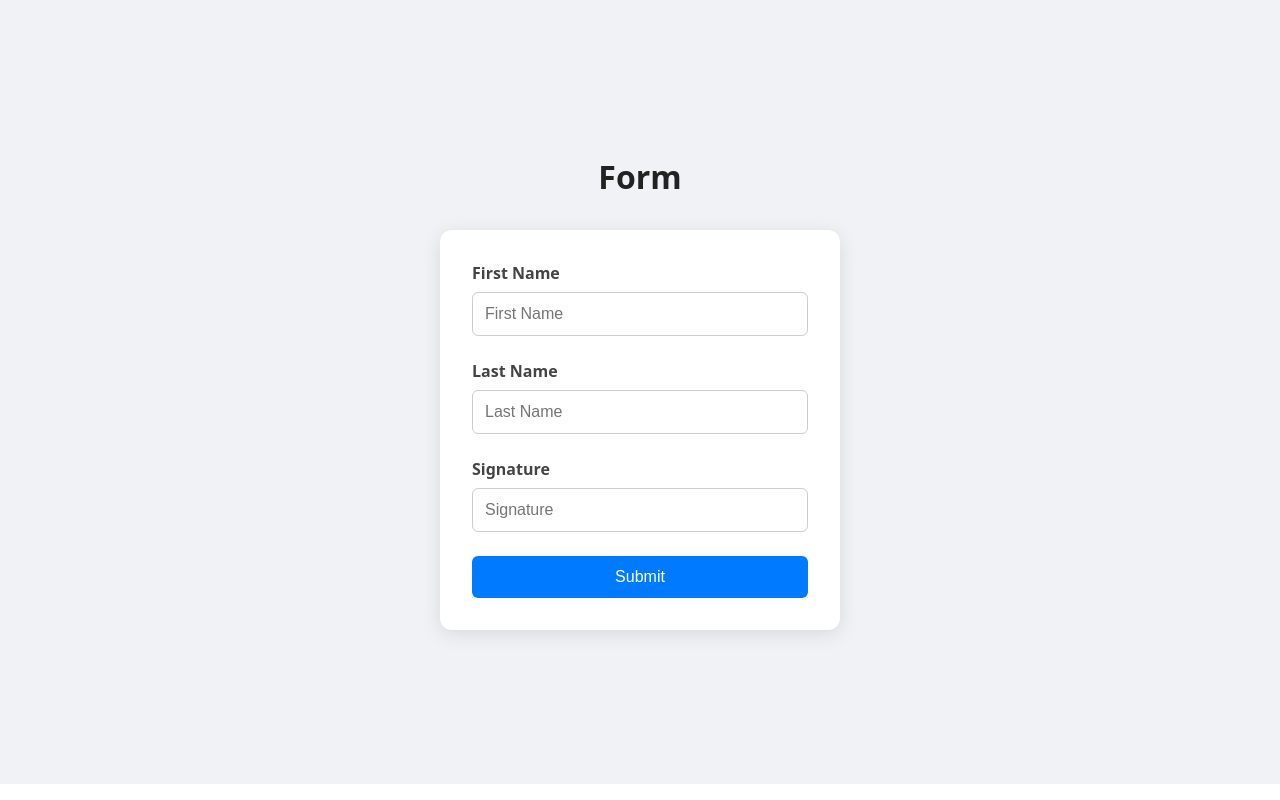
Scenario: App Form › shows required validation errors when submitted empty
Click the button "Submit".
click(640, 576)  # box top-left (472, 556), bottom-right (808, 598)
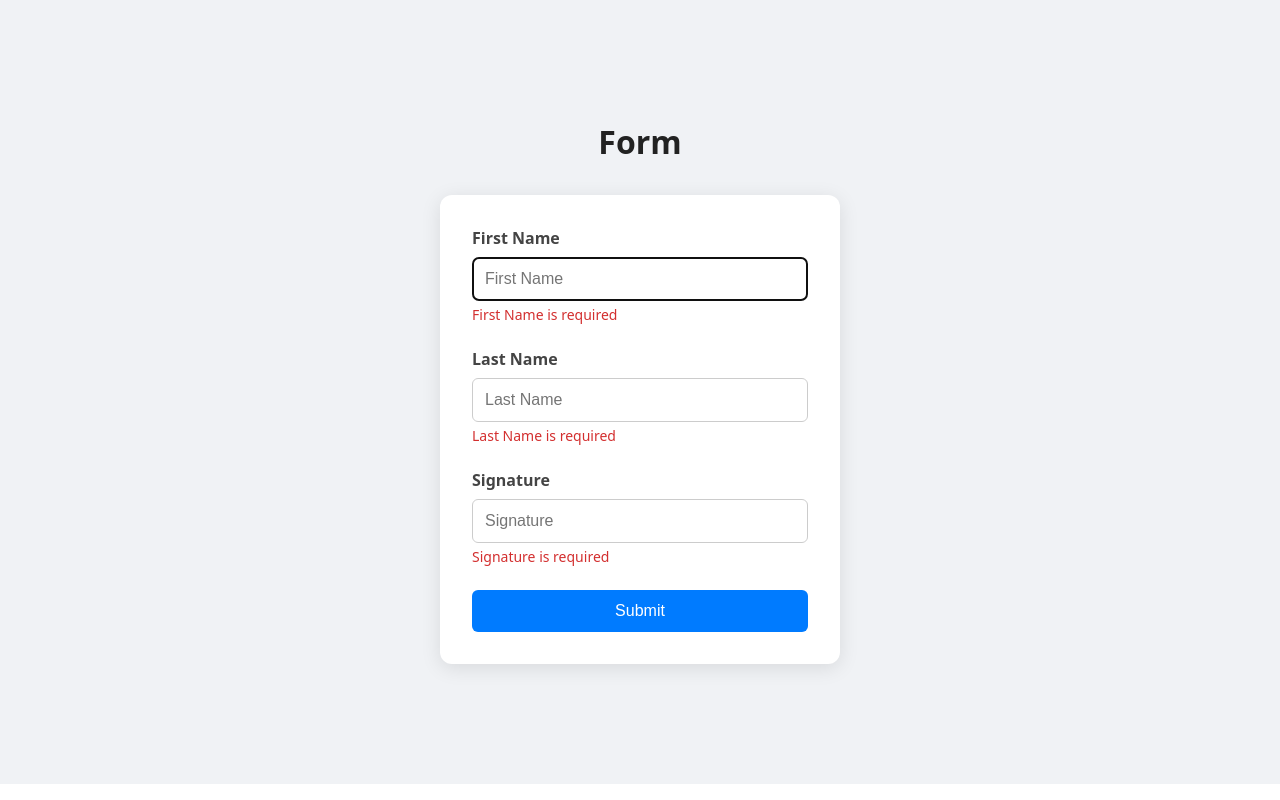
Now the text "First Name is required" is shown, box top-left (472, 305), bottom-right (617, 324)
Now the text "Last Name is required" is shown, box top-left (472, 426), bottom-right (616, 445)
Now the text "Signature is required" is shown, box top-left (472, 547), bottom-right (609, 566)
